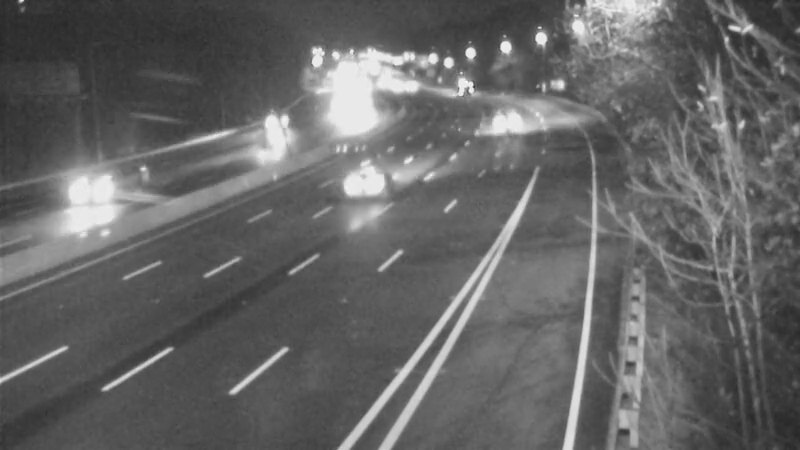vehicle: (321, 140, 401, 220), (40, 157, 120, 237), (440, 62, 490, 112), (482, 82, 532, 132), (244, 120, 294, 170)
